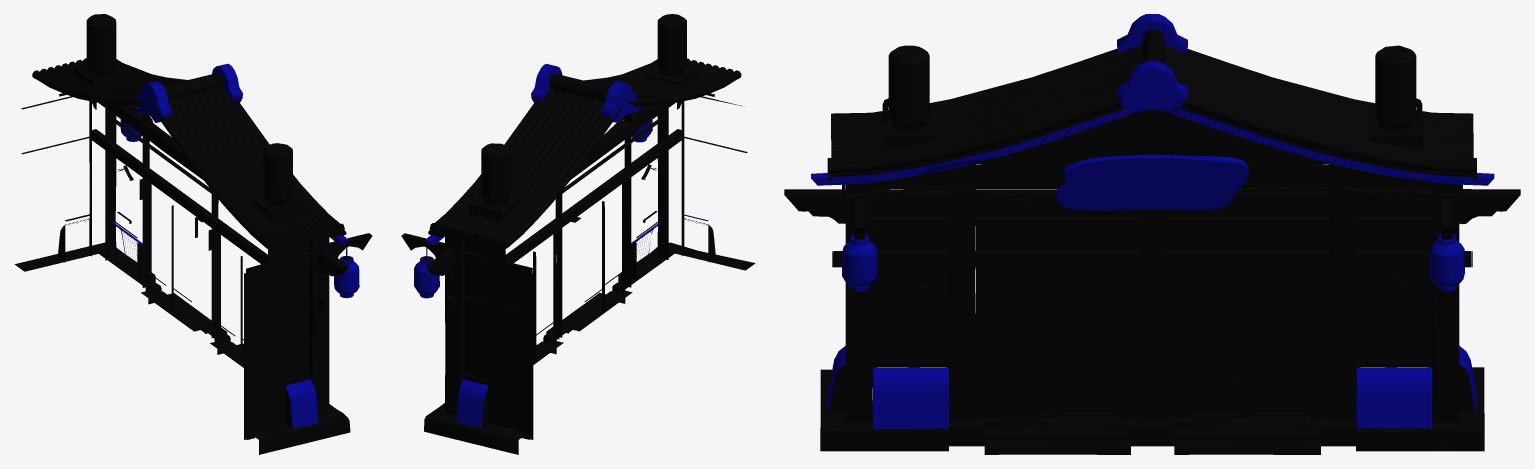
The model's file is SM_ENV_LKNVLD_Hatago_Front_Lod2.gltf.
The picture shows the model from 3 angles, left to right: view 1: azimuth 30°, elevation 25°; view 2: azimuth 150°, elevation 25°; view 3: azimuth 270°, elevation 25°; orthographic projection. The views are drawn at different scales.
Visible parts, largest first — view 1: SM_ENV_LKNVLD_Hatago_Front_Lod2; view 2: SM_ENV_LKNVLD_Hatago_Front_Lod2; view 3: SM_ENV_LKNVLD_Hatago_Front_Lod2.
Boxes of the visible parts, x1=… form: SM_ENV_LKNVLD_Hatago_Front_Lod2: x1=15, y1=14, x2=372, y2=454; SM_ENV_LKNVLD_Hatago_Front_Lod2: x1=401, y1=14, x2=755, y2=454; SM_ENV_LKNVLD_Hatago_Front_Lod2: x1=784, y1=14, x2=1520, y2=454.
Size of the model in its own units: 4.7 by 9.42 by 16.34.
